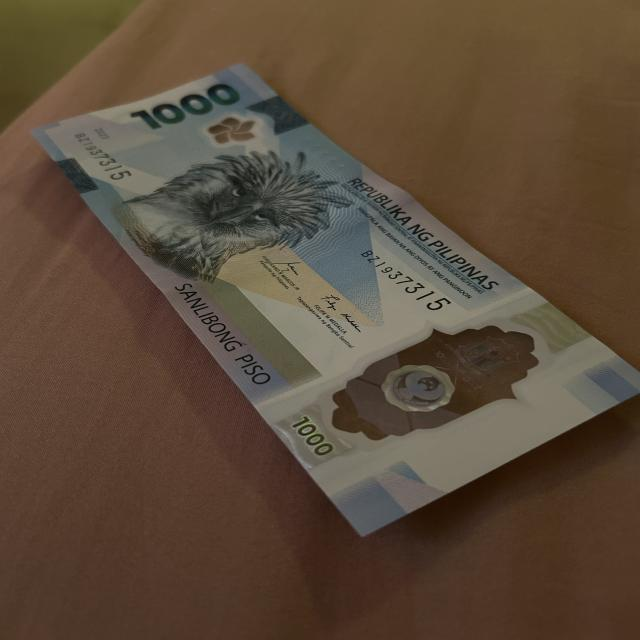clear_window: (313, 321, 557, 438)
eagle: (119, 148, 359, 259)
sampaguita: (206, 114, 260, 142)
